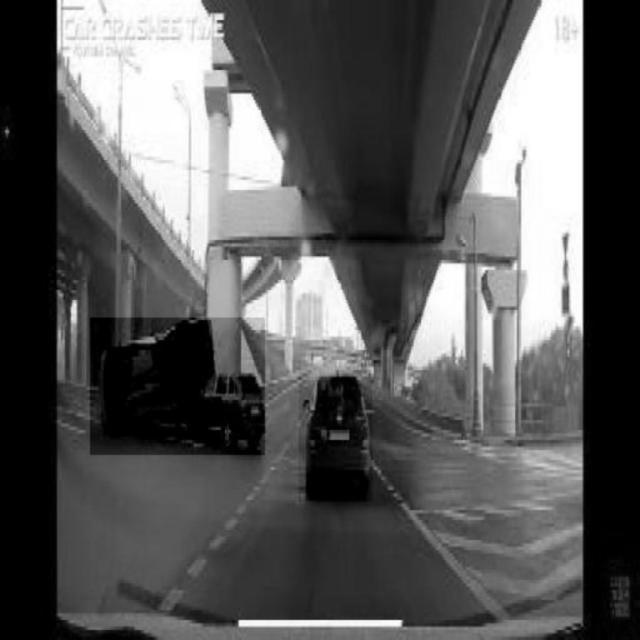accident: (91, 318, 266, 455)
vehicle: (299, 371, 372, 502)
